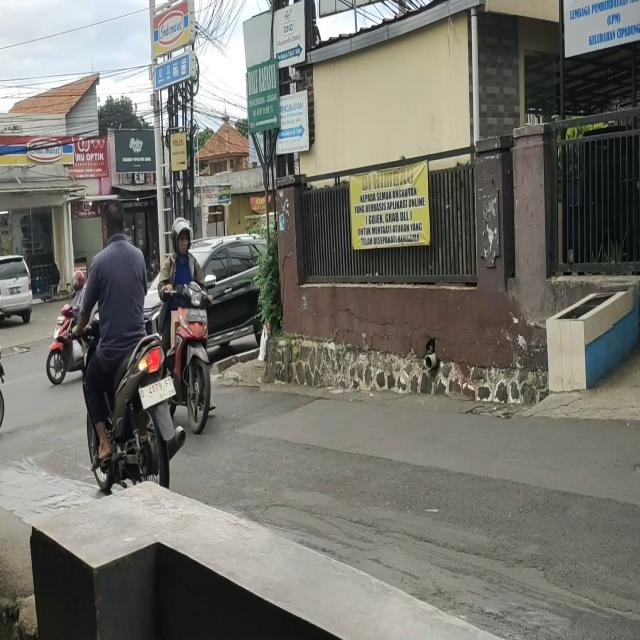helmet: (173, 220, 192, 256), (72, 268, 86, 290)
no-helmet: (102, 199, 127, 240)
